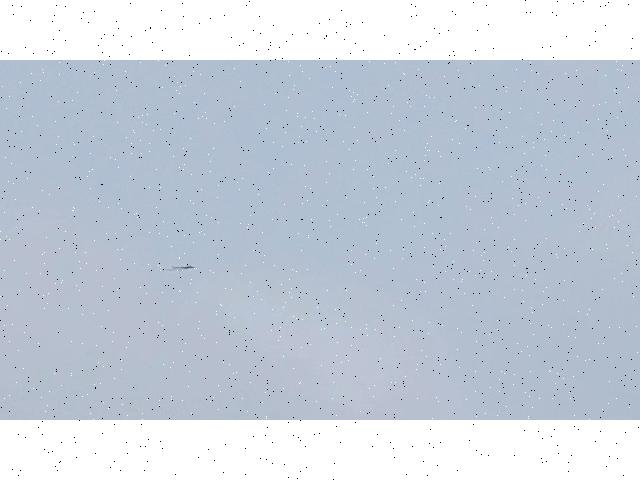Anti-Drone: (170, 261, 198, 273)
